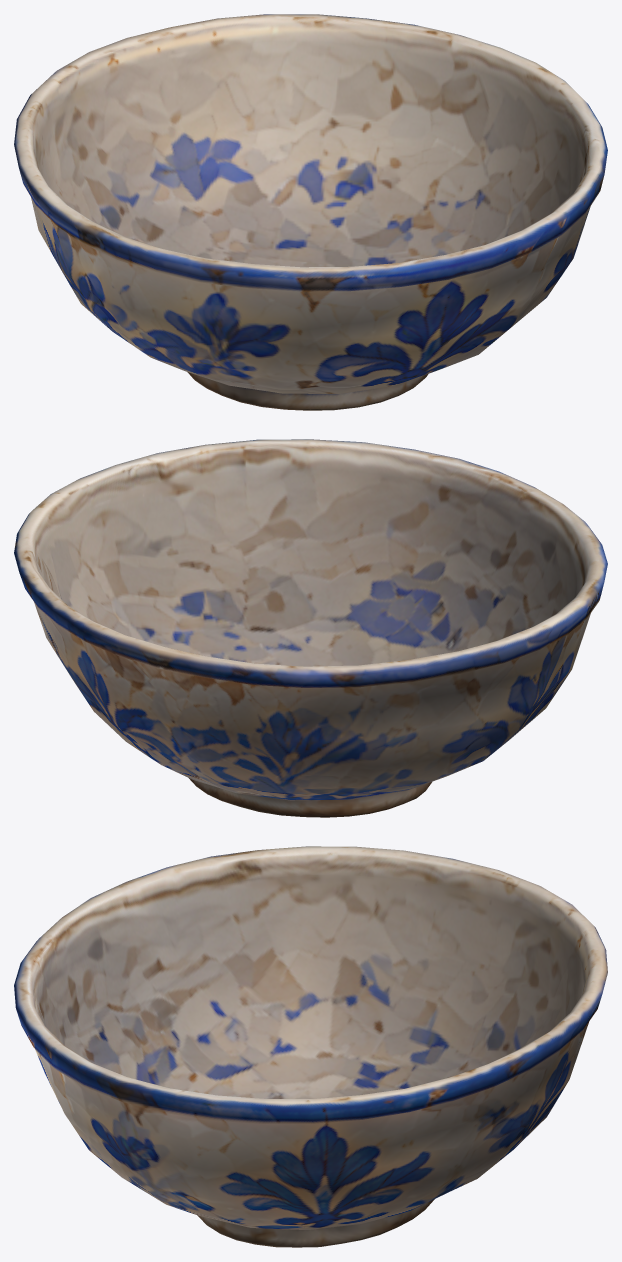
The model's file is porcelain_bowl.fbx.
3 views of the same model, one above another, from view 1: azimuth 30°, elevation 25°; view 2: azimuth 150°, elevation 25°; view 3: azimuth 270°, elevation 25° (orthographic).
Parts seen in each view (by area): view 1: porcelain_bowl; view 2: porcelain_bowl; view 3: porcelain_bowl.
Boxes of the visible parts, bbox=[...] form: porcelain_bowl: bbox=[14, 14, 607, 410]; porcelain_bowl: bbox=[14, 439, 607, 817]; porcelain_bowl: bbox=[14, 846, 607, 1247].
Size of the model in its own units: 31.69 by 13.43 by 30.91.
1 material, 1 textured.
